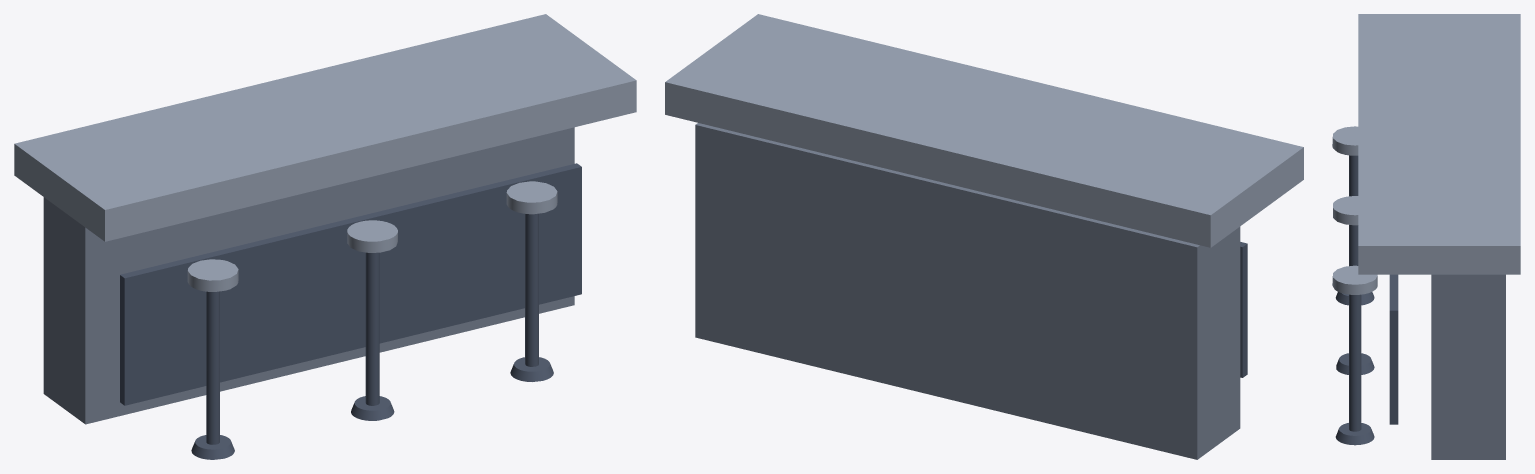
The model's file is 吧台-lite.glb.
The picture shows the model from 3 angles, left to right: view 1: azimuth 30°, elevation 25°; view 2: azimuth 150°, elevation 25°; view 3: azimuth 270°, elevation 25°; orthographic projection. The views are drawn at different scales.
Parts seen in each view (by area): view 1: bar; view 2: bar; view 3: bar.
Boxes of the visible parts, x1,y1,x2,y2 form: bar: (14, 14, 636, 459); bar: (665, 14, 1303, 459); bar: (1332, 14, 1520, 459).
Size of the model in its own units: 2.2 by 1.05 by 0.7539.
